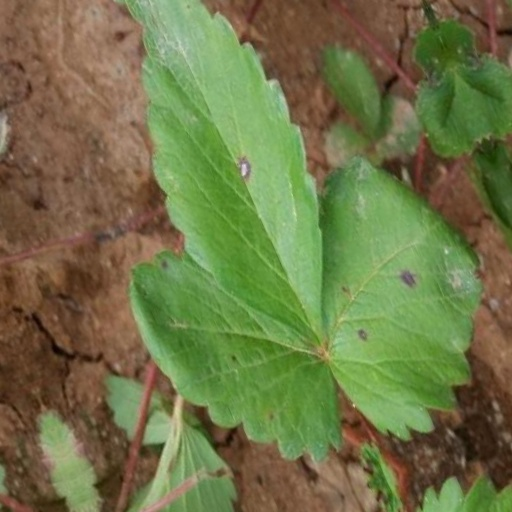Leaf Spot: (192, 136, 349, 511), (280, 22, 460, 311), (118, 38, 279, 298), (359, 289, 415, 347)
